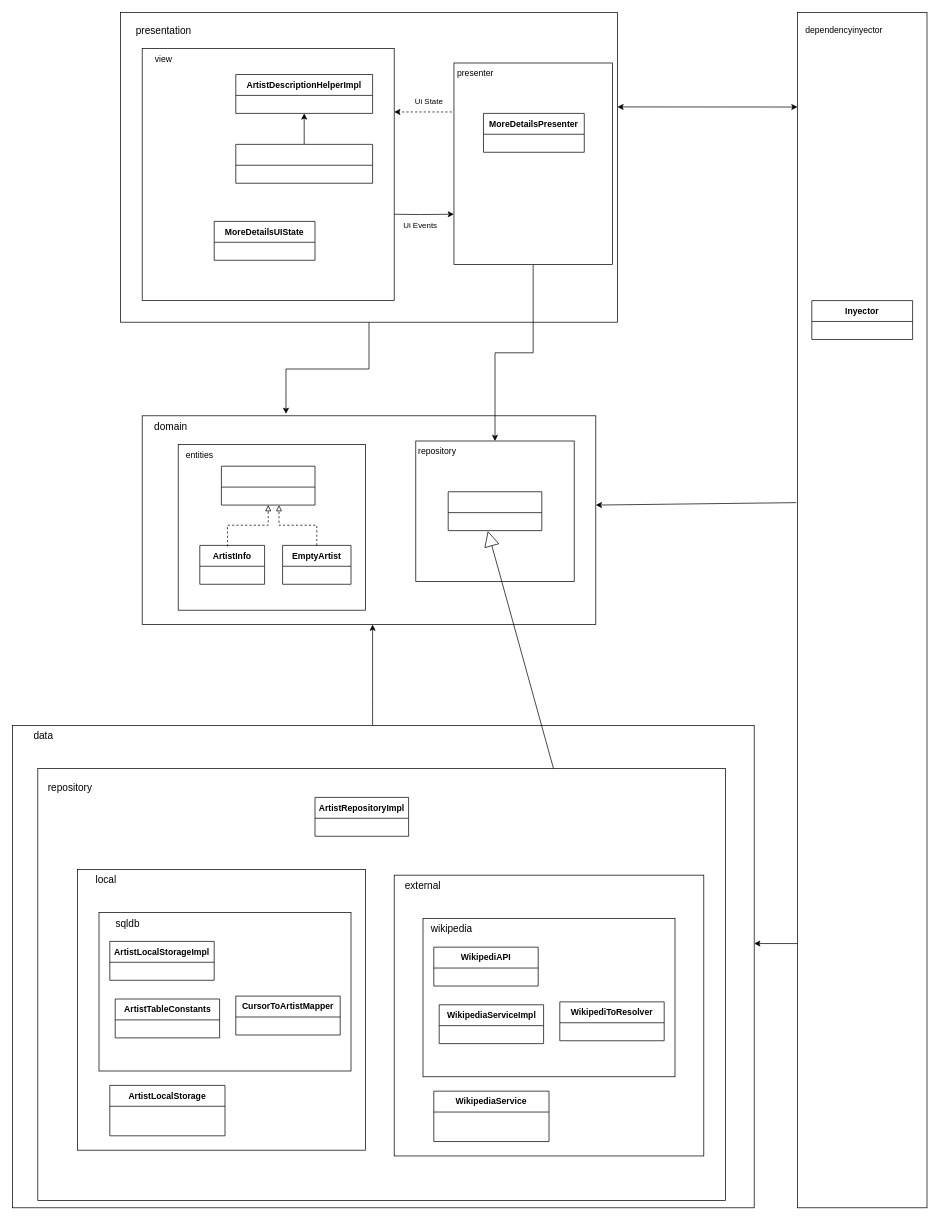
This 940x1220 diagram has some shape labels left out. Here are the shapes that lost their labels. From the top down, the box of each, then its label:
(235, 144, 373, 183): MoreDetailsView
(221, 465, 315, 505): Artist
(447, 491, 542, 531): ArtistRepository
